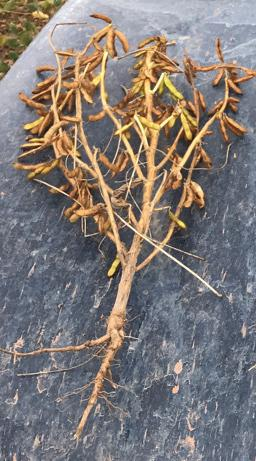soja: (41, 120, 68, 145), (17, 92, 48, 113), (161, 75, 186, 101), (220, 121, 245, 144), (188, 179, 214, 201), (224, 112, 251, 133), (14, 157, 50, 172), (78, 86, 104, 106), (104, 255, 126, 278), (179, 106, 203, 127), (169, 213, 193, 233), (115, 27, 132, 54), (22, 113, 46, 132), (36, 71, 60, 90), (85, 55, 106, 75), (180, 115, 196, 141), (201, 147, 217, 173), (100, 154, 118, 175), (218, 118, 232, 145), (75, 204, 100, 219), (86, 110, 110, 125), (139, 115, 160, 132), (210, 68, 226, 90), (117, 121, 136, 139), (207, 100, 225, 118), (26, 169, 49, 183), (54, 139, 70, 159), (113, 152, 124, 181), (168, 107, 183, 128), (160, 61, 181, 76), (106, 30, 117, 58), (60, 50, 78, 67), (94, 31, 108, 52), (227, 78, 244, 95), (52, 182, 70, 198), (44, 160, 62, 176), (37, 63, 60, 75), (198, 91, 212, 109), (186, 186, 196, 211), (90, 15, 115, 25), (122, 152, 135, 171), (64, 77, 79, 93), (138, 35, 156, 48), (64, 131, 76, 150), (63, 112, 82, 124), (30, 120, 45, 135), (217, 39, 226, 64), (65, 96, 79, 112), (29, 136, 46, 149), (190, 99, 201, 118), (163, 126, 176, 142), (97, 215, 107, 235), (196, 199, 209, 213), (228, 93, 242, 106), (54, 51, 80, 58), (135, 81, 147, 96), (132, 51, 148, 62), (64, 202, 77, 215), (67, 215, 79, 229), (171, 181, 182, 196), (67, 165, 80, 177), (156, 81, 167, 95), (229, 101, 239, 114), (68, 186, 79, 197), (124, 133, 134, 143), (130, 63, 142, 71)
